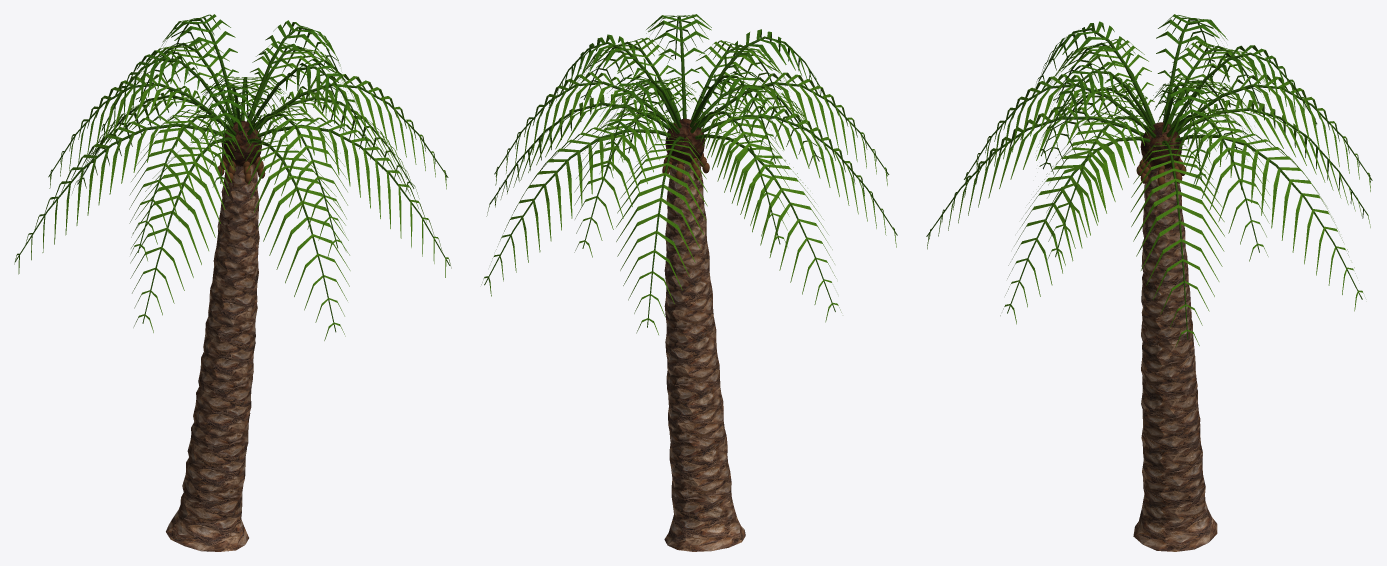
File: palm_tree.glb
3 views of the same model, side by side, from view 1: azimuth 30°, elevation 25°; view 2: azimuth 150°, elevation 25°; view 3: azimuth 270°, elevation 25° (orthographic). The views are drawn at different scales.
Visible parts, largest first — view 1: Canopy, Trunk; view 2: Canopy, Trunk; view 3: Canopy, Trunk.
Boxes of the visible parts, x1,y1,x2,y2 form: Canopy: (14, 14, 451, 340); Trunk: (166, 120, 265, 551); Canopy: (481, 14, 897, 334); Trunk: (662, 118, 745, 551); Canopy: (926, 14, 1372, 346); Trunk: (1133, 122, 1217, 551).
Size of the model in its own units: 5.97 by 7.36 by 5.99.
Materials: 6 (5 with a texture image).
